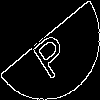P: (25, 24, 73, 81)
